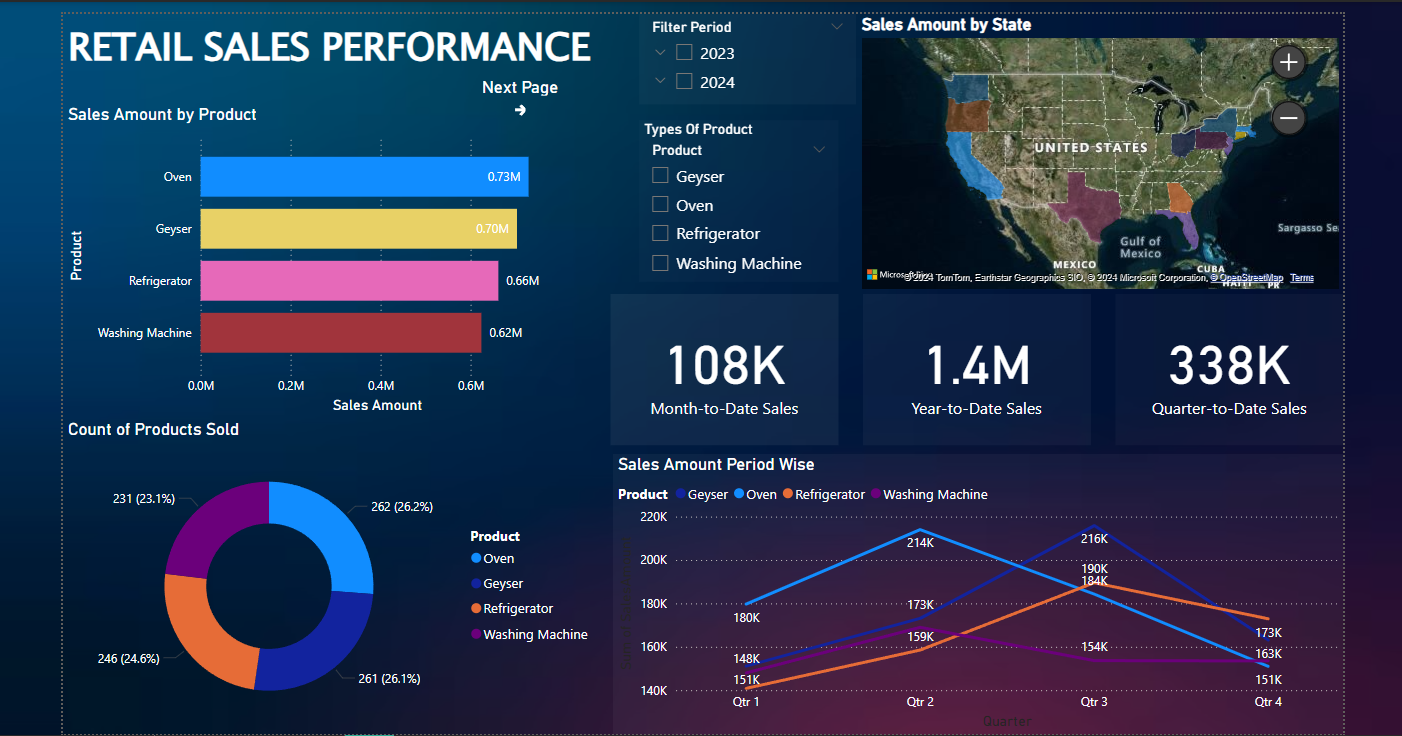

Layout of this report page (visuals, bound fields, positions):
{"tool":"powerbi","page":{"name":"Page 1","canvas":[1280,720],"ordinal":0},"visuals":[{"type":"lineChart","title":"Sales Amount Period Wise","fields":{"Series":["retail_sales_performance_dataset.Product"],"Y":["Sum(retail_sales_performance_dataset.SalesAmount)"],"Category":["retail_sales_performance_dataset.Date.Variation.Date Hierarchy.Year","retail_sales_performance_dataset.Date.Variation.Date Hierarchy.Quarter","retail_sales_performance_dataset.Date.Variation.Date Hierarchy.Month","retail_sales_performance_dataset.Date.Variation.Date Hierarchy.Day"]},"box":[550.3,440.5,730,279.9],"z":0},{"type":"filledMap","title":"Sales Amount by State","fields":{"Category":["retail_sales_performance_dataset.State"]},"box":[793.1,0,487.1,279.9],"z":1000},{"type":"barChart","title":"Sales Amount by Product","fields":{"Category":["retail_sales_performance_dataset.Product"],"Y":["Sum(retail_sales_performance_dataset.SalesAmount)"]},"box":[0,90.6,510.5,314.2],"z":2000},{"type":"card","fields":{"Values":["retail_sales_performance_dataset.Year-to-Date Sales"]},"box":[800,279.9,227.8,150.9],"z":3000},{"type":"card","fields":{"Values":["retail_sales_performance_dataset.Quarter-to-Date Sales"]},"box":[1052.5,279.9,227.8,150.9],"z":4000},{"type":"card","fields":{"Values":["retail_sales_performance_dataset.Month-to-Date Sales"]},"box":[547.5,279.9,227.8,150.9],"z":5000},{"type":"textbox","box":[0,0,576.3,124.9],"z":6000},{"type":"slicer","fields":{"Values":["retail_sales_performance_dataset.Date.Variation.Date Hierarchy.Year","retail_sales_performance_dataset.Date.Variation.Date Hierarchy.Quarter","retail_sales_performance_dataset.Date.Variation.Date Hierarchy.Month","retail_sales_performance_dataset.Date.Variation.Date Hierarchy.Day"]},"box":[576.3,0,216.8,90.6],"z":7000},{"type":"donutChart","title":"Count of Products Sold","fields":{"Category":["retail_sales_performance_dataset.Product"],"Y":["CountNonNull(retail_sales_performance_dataset.Product)"]},"box":[0,404.8,539.3,315.6],"z":8000},{"type":"slicer","title":"Types Of Product","fields":{"Values":["retail_sales_performance_dataset.Product"]},"box":[576.3,105.7,199,161.9],"z":9000},{"type":"actionButton","title":"Next Page","box":[353.3,62.2,206.5,43.5],"z":9001}]}

Visuals, with their boxes on the page's 1280x720 design canvas (x1, y1, x2, y2). These are canvas units, not pixel positions in the 1402x736 screenshot, which may show the page scaled, cropped or inside an application window:
"Sales Amount Period Wise" lineChart: 550, 440, 1280, 720
"Sales Amount by State" filledMap: 793, 0, 1280, 280
"Sales Amount by Product" barChart: 0, 91, 510, 405
card - retail_sales_performance_dataset.Year-to-Date Sales: 800, 280, 1028, 431
card - retail_sales_performance_dataset.Quarter-to-Date Sales: 1052, 280, 1280, 431
card - retail_sales_performance_dataset.Month-to-Date Sales: 548, 280, 775, 431
textbox: 0, 0, 576, 125
slicer - retail_sales_performance_dataset.Date.Variation.Date Hierarchy.Year x retail_sales_performance_dataset.Date.Variation.Date Hierarchy.Quarter: 576, 0, 793, 91
"Count of Products Sold" donutChart: 0, 405, 539, 720
"Types Of Product" slicer: 576, 106, 775, 268
"Next Page" actionButton: 353, 62, 560, 106
